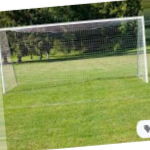goals: (1, 15, 150, 95)
